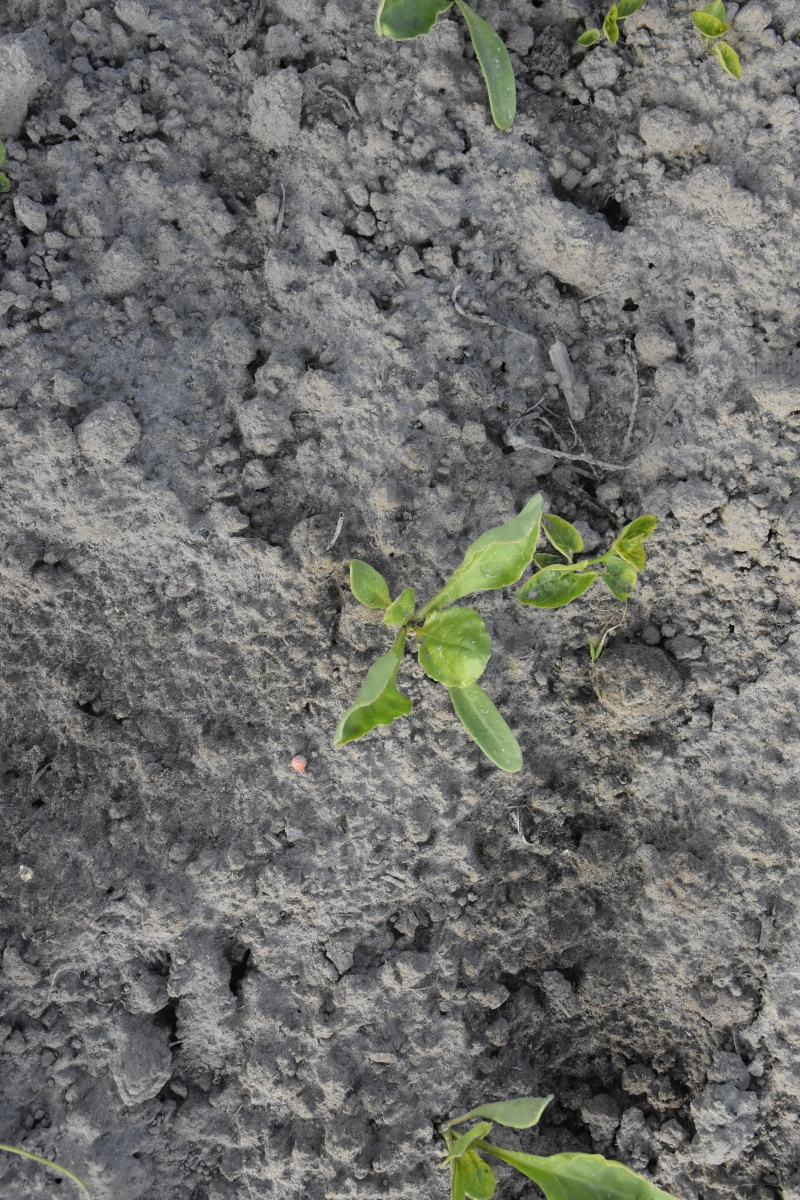field bindweed: (517, 511, 656, 629), (694, 9, 748, 81)
sugar beet: (348, 514, 546, 795), (428, 1091, 644, 1200)
